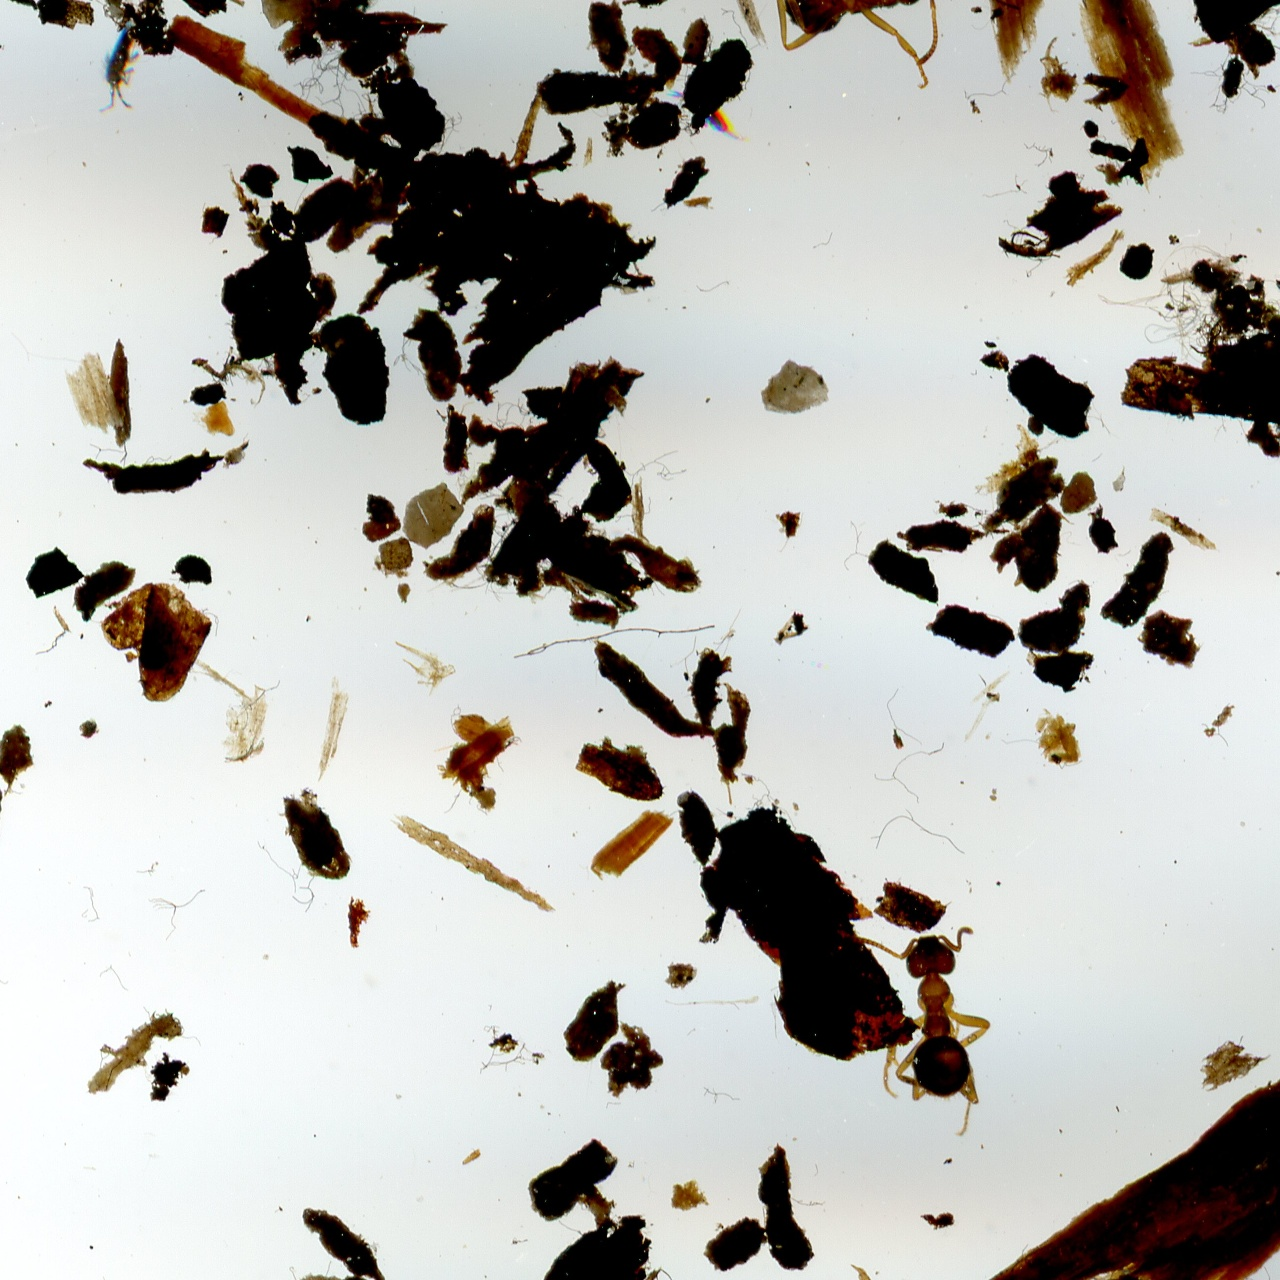arthropod: (0, 0, 503, 502), (850, 923, 993, 1140), (742, 0, 949, 93), (659, 78, 761, 154), (92, 20, 147, 119)
